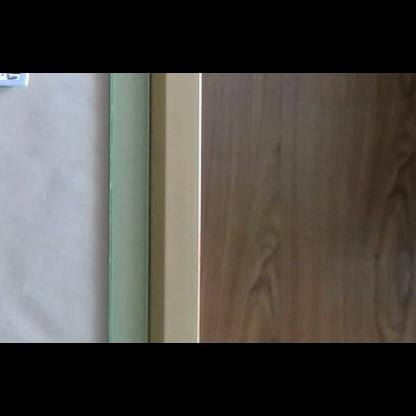2z: (0, 73, 20, 80)
